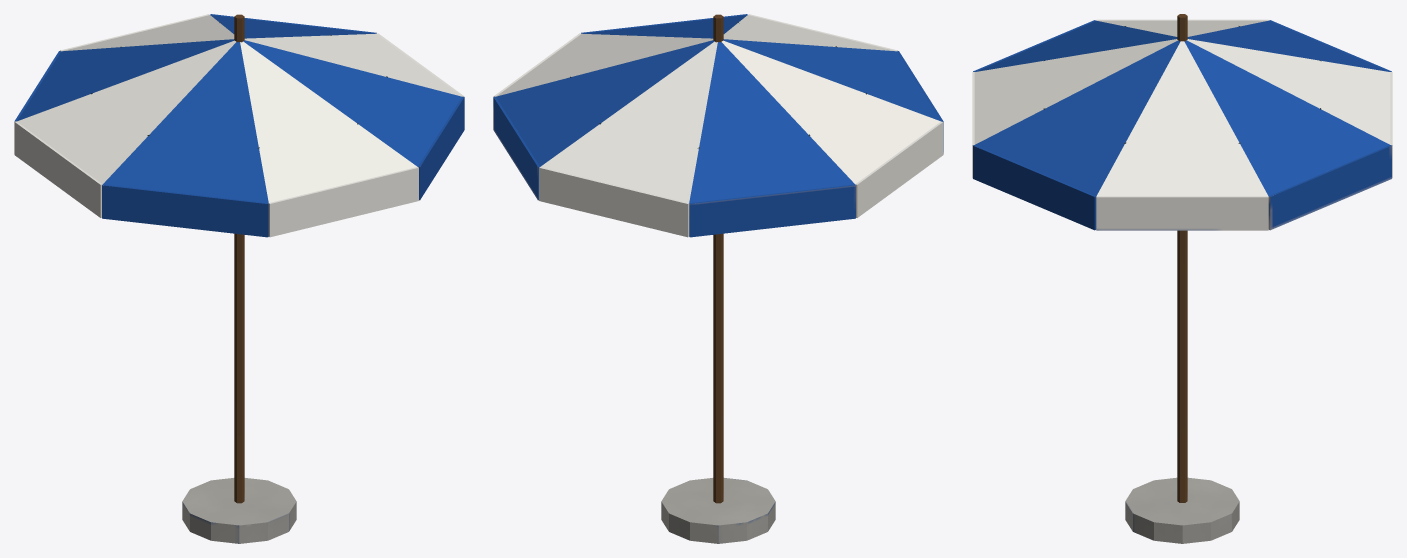
Rendered from slunecnik_a5e7a2a1.glb.
The picture shows the model from 3 angles, left to right: view 1: azimuth 30°, elevation 25°; view 2: azimuth 150°, elevation 25°; view 3: azimuth 270°, elevation 25°; orthographic projection.
Visible parts, largest first — view 1: dum; view 2: dum; view 3: dum.
Boxes of the visible parts, x1=… form: dum: x1=14, y1=14, x2=464, y2=543; dum: x1=493, y1=14, x2=943, y2=543; dum: x1=972, y1=14, x2=1392, y2=543.
Size of the model in its own units: 2.05 by 2.71 by 2.05.
1 material, 1 textured.
